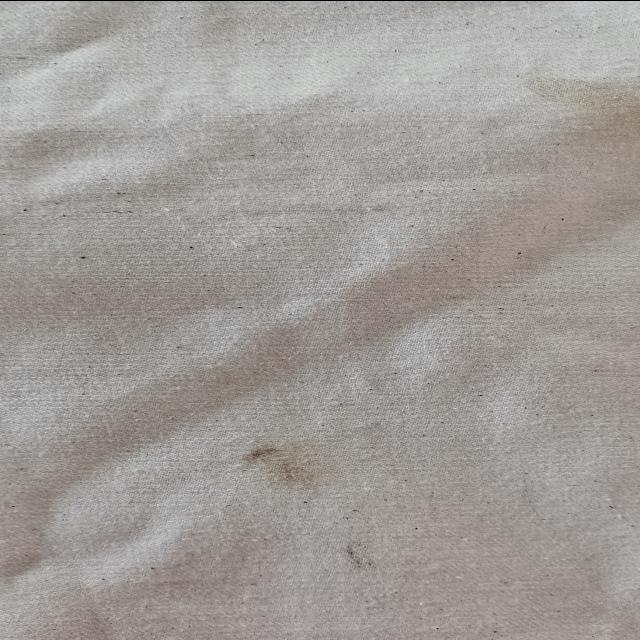taaaches: (229, 437, 338, 497), (318, 536, 404, 575)
